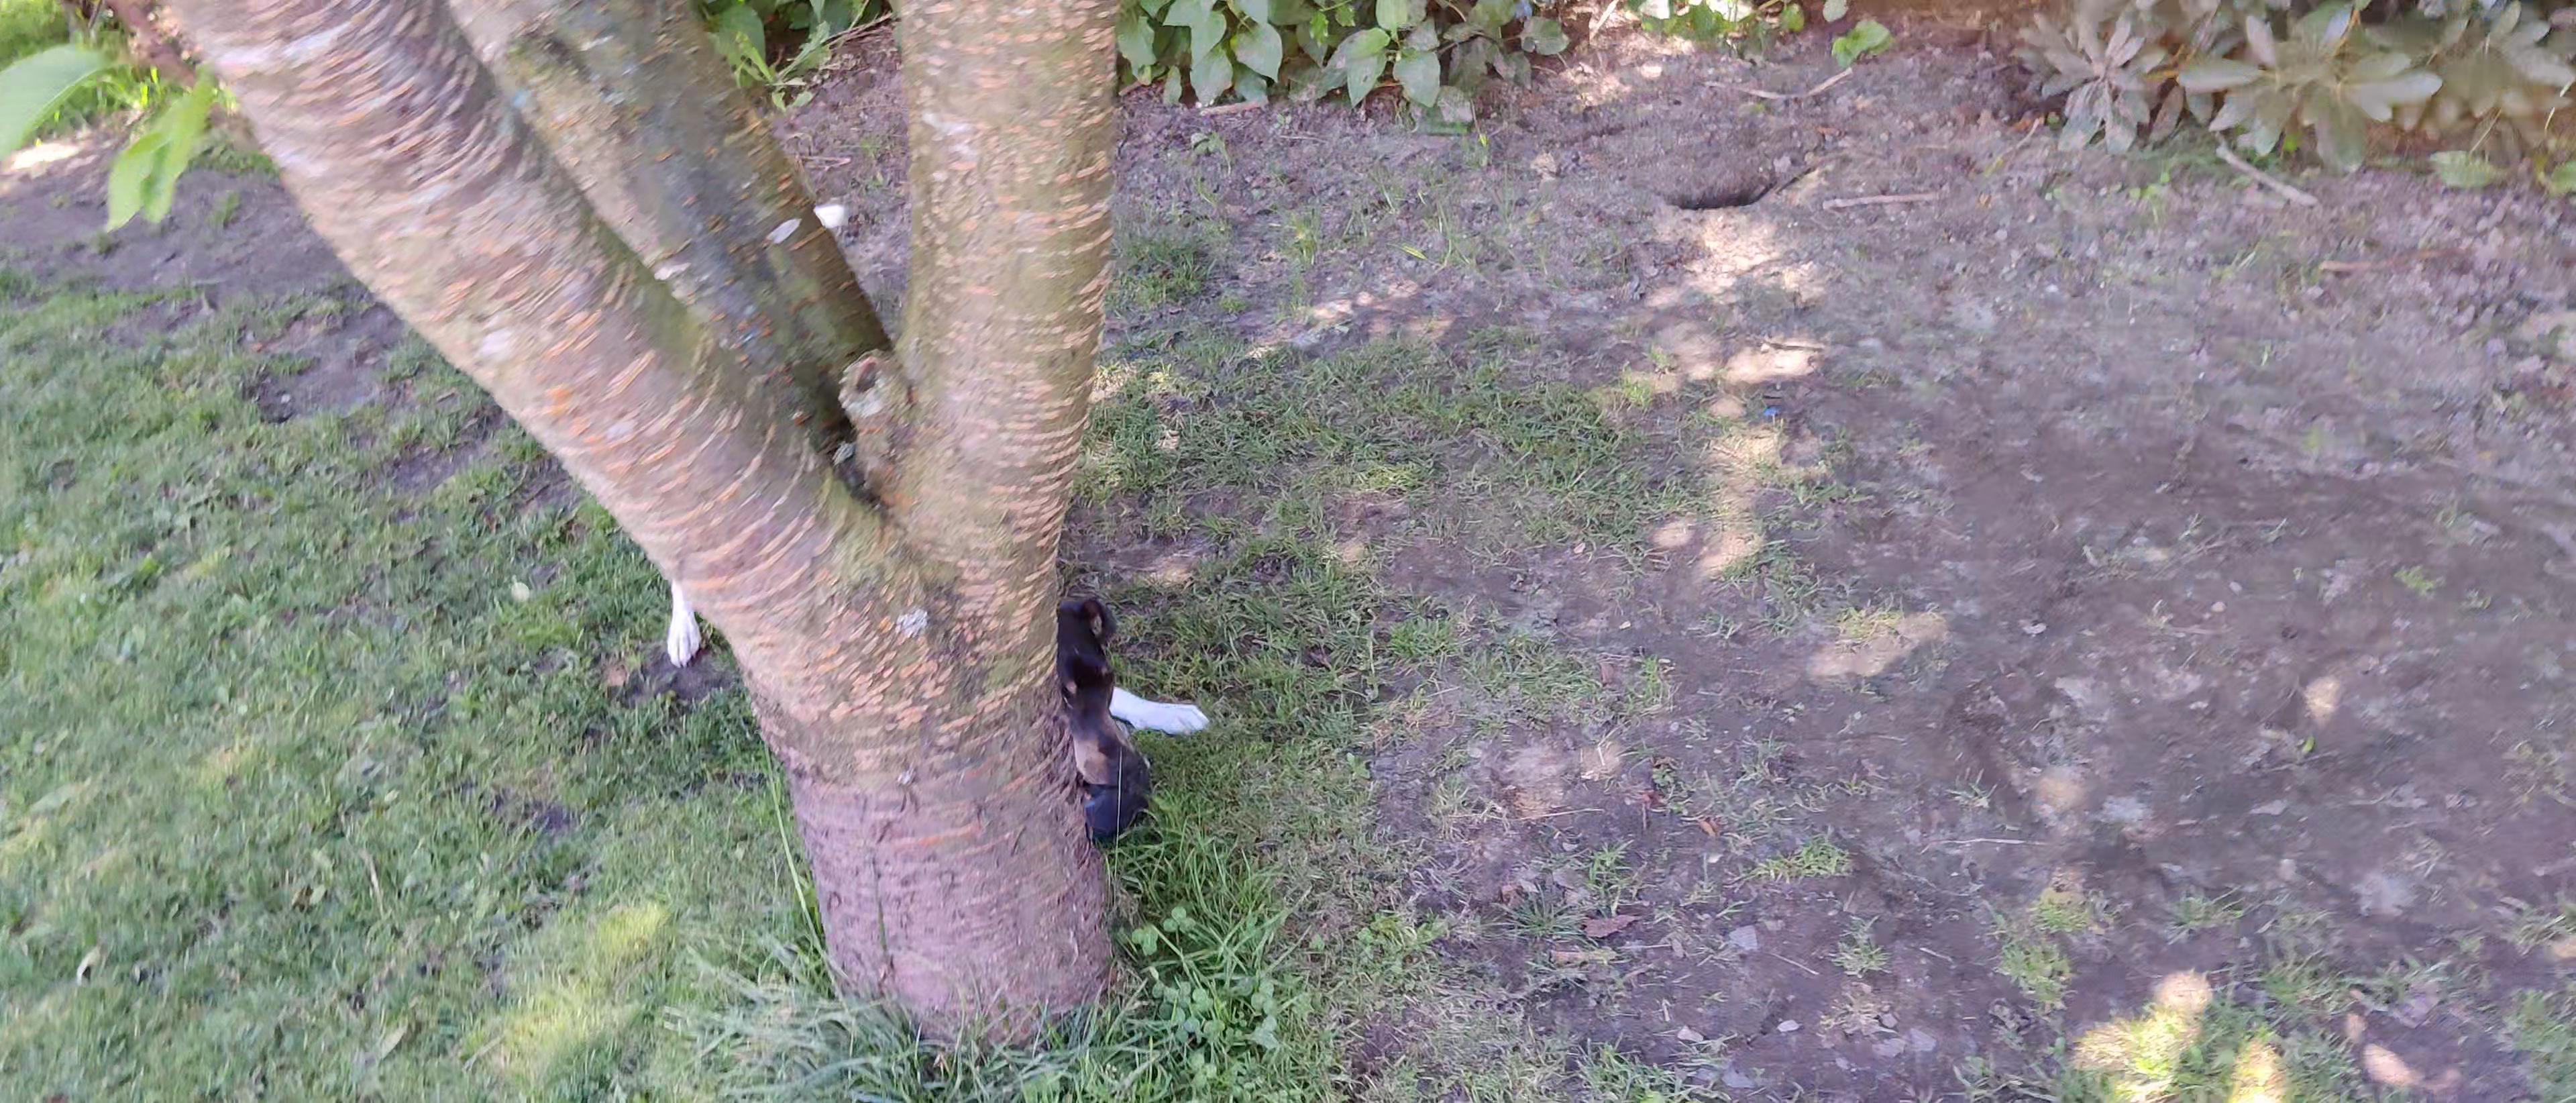Dog: (655, 564, 1214, 789)
